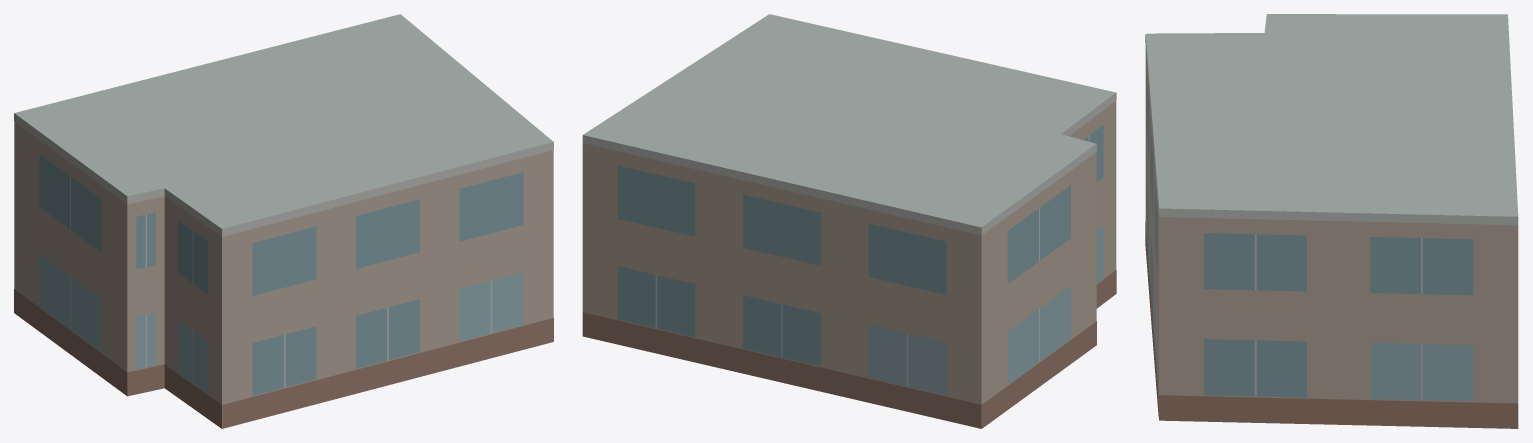
File: survey-upis-32666300.glb
The picture shows the model from 3 angles, left to right: view 1: azimuth 30°, elevation 25°; view 2: azimuth 150°, elevation 25°; view 3: azimuth 270°, elevation 25°; orthographic projection. The views are drawn at different scales.
Parts seen in each view (by area): view 1: survey-upis-32666300.tmp; view 2: survey-upis-32666300.tmp; view 3: survey-upis-32666300.tmp.
Part boxes in pixels (x1=…): survey-upis-32666300.tmp: x1=14, y1=14, x2=553, y2=428; survey-upis-32666300.tmp: x1=582, y1=14, x2=1116, y2=428; survey-upis-32666300.tmp: x1=1145, y1=14, x2=1518, y2=428.
Size of the model in its own units: 12.52 by 6.1 by 9.73.
